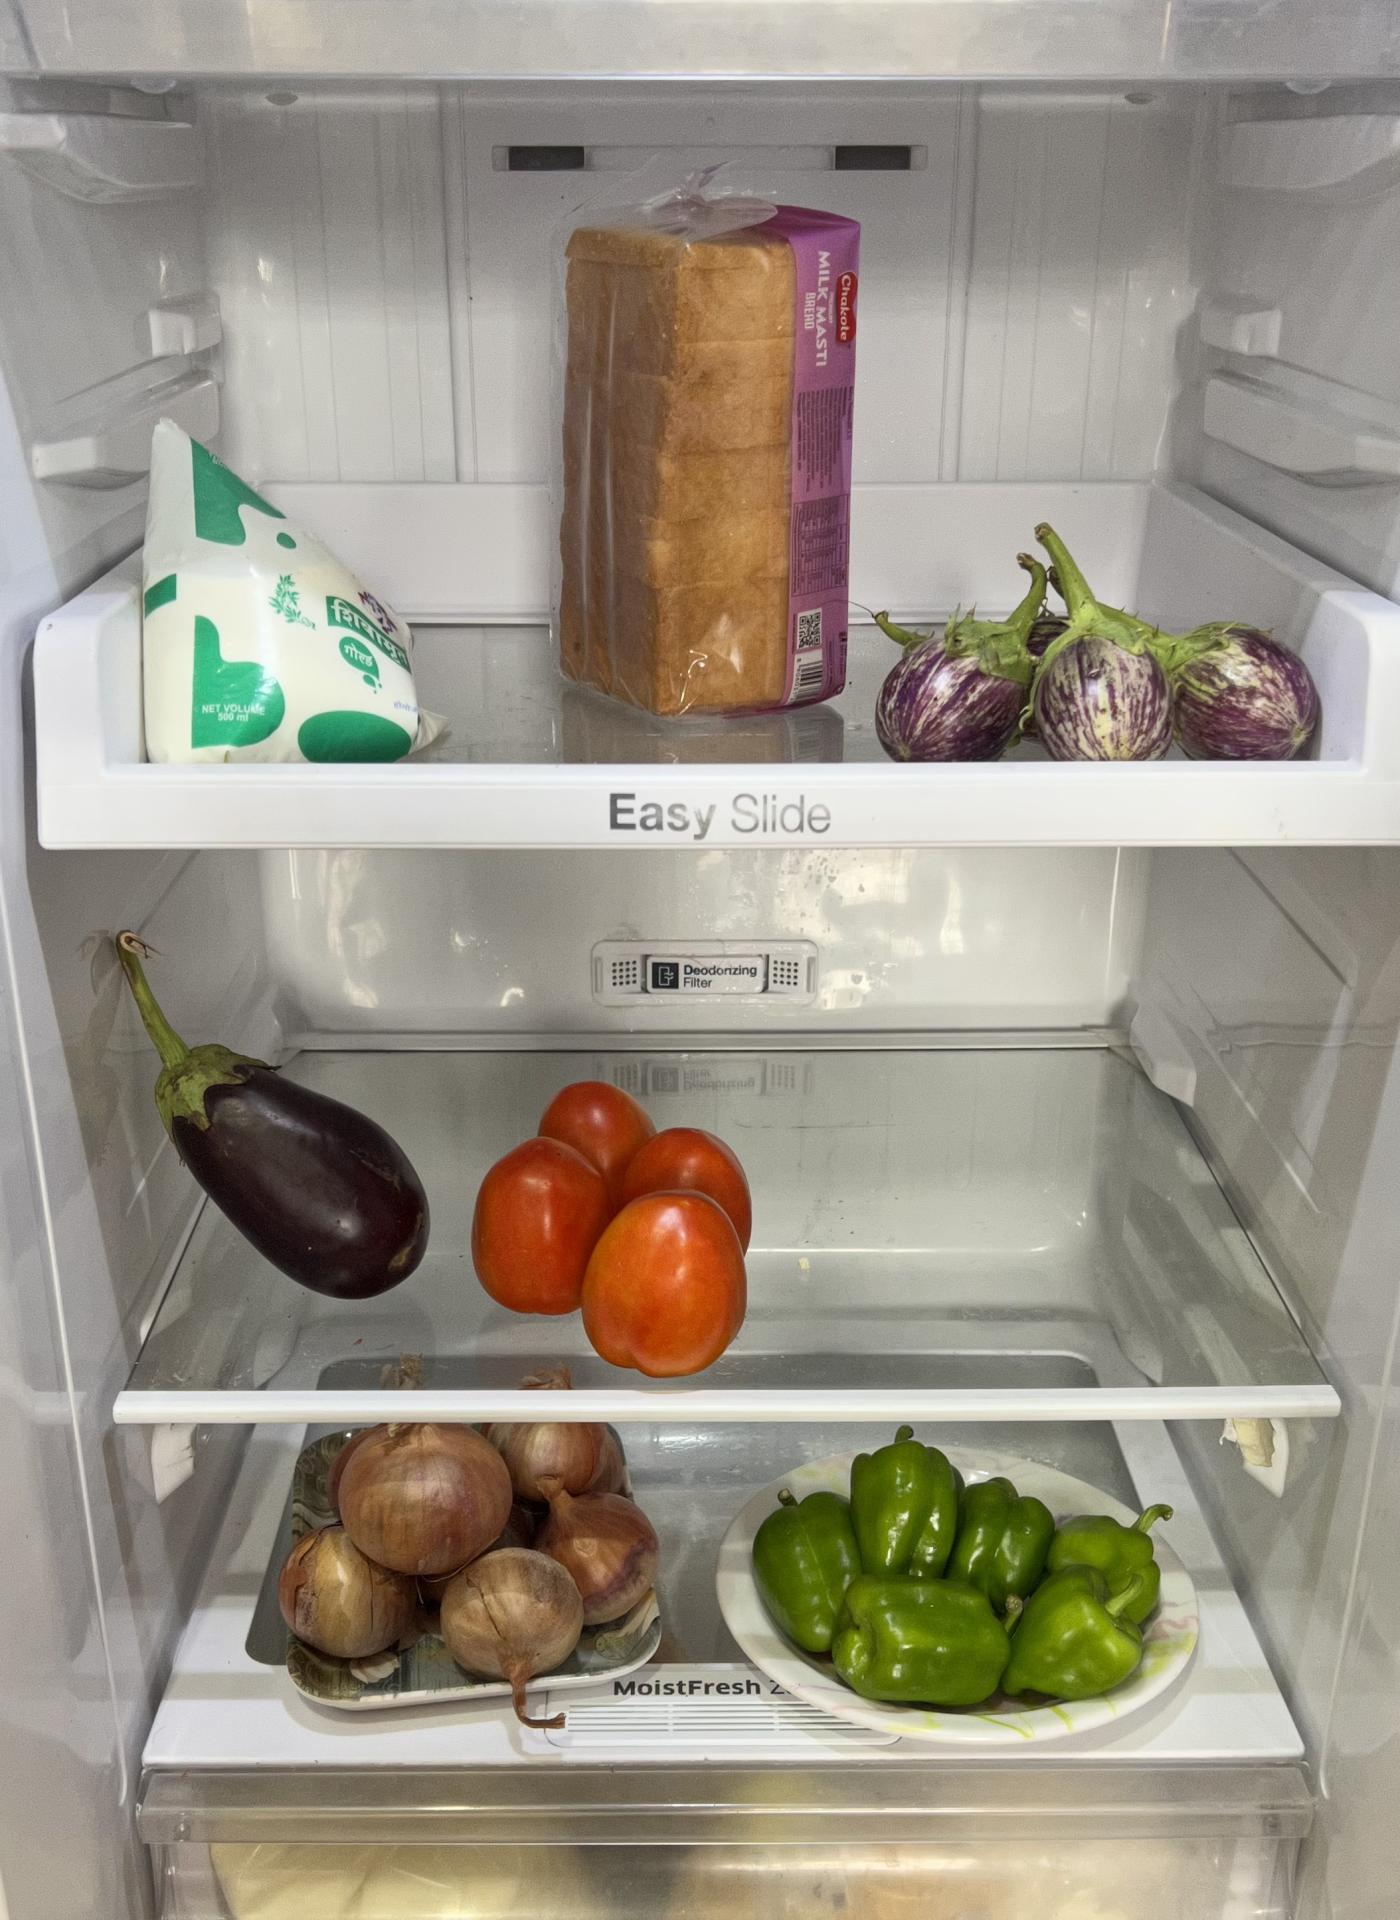bread: (531, 191, 866, 730)
capsicum: (751, 1441, 1160, 1701)
milk: (116, 417, 444, 762)
onion: (271, 1415, 660, 1679)
